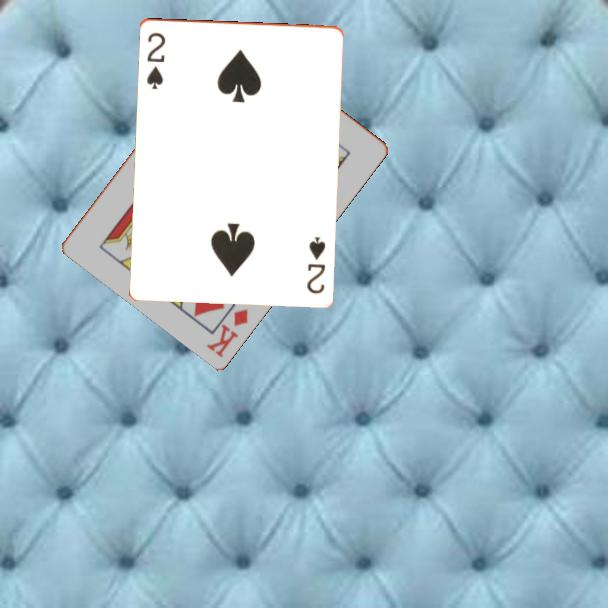d13: (203, 304, 251, 360)
s02: (143, 28, 168, 92), (303, 233, 328, 296)
